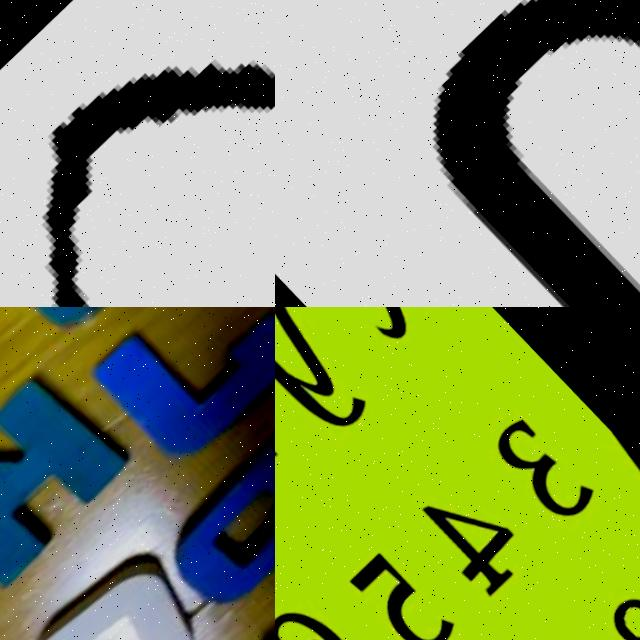3: (466, 394, 618, 553)
4: (388, 456, 550, 623)
5: (317, 525, 475, 640)
6: (275, 570, 389, 640)
8: (575, 569, 640, 640)
H: (275, 0, 640, 307)
J: (74, 307, 275, 490)
K: (0, 367, 136, 603)
P: (145, 413, 275, 640)
Q: (0, 534, 243, 640)
